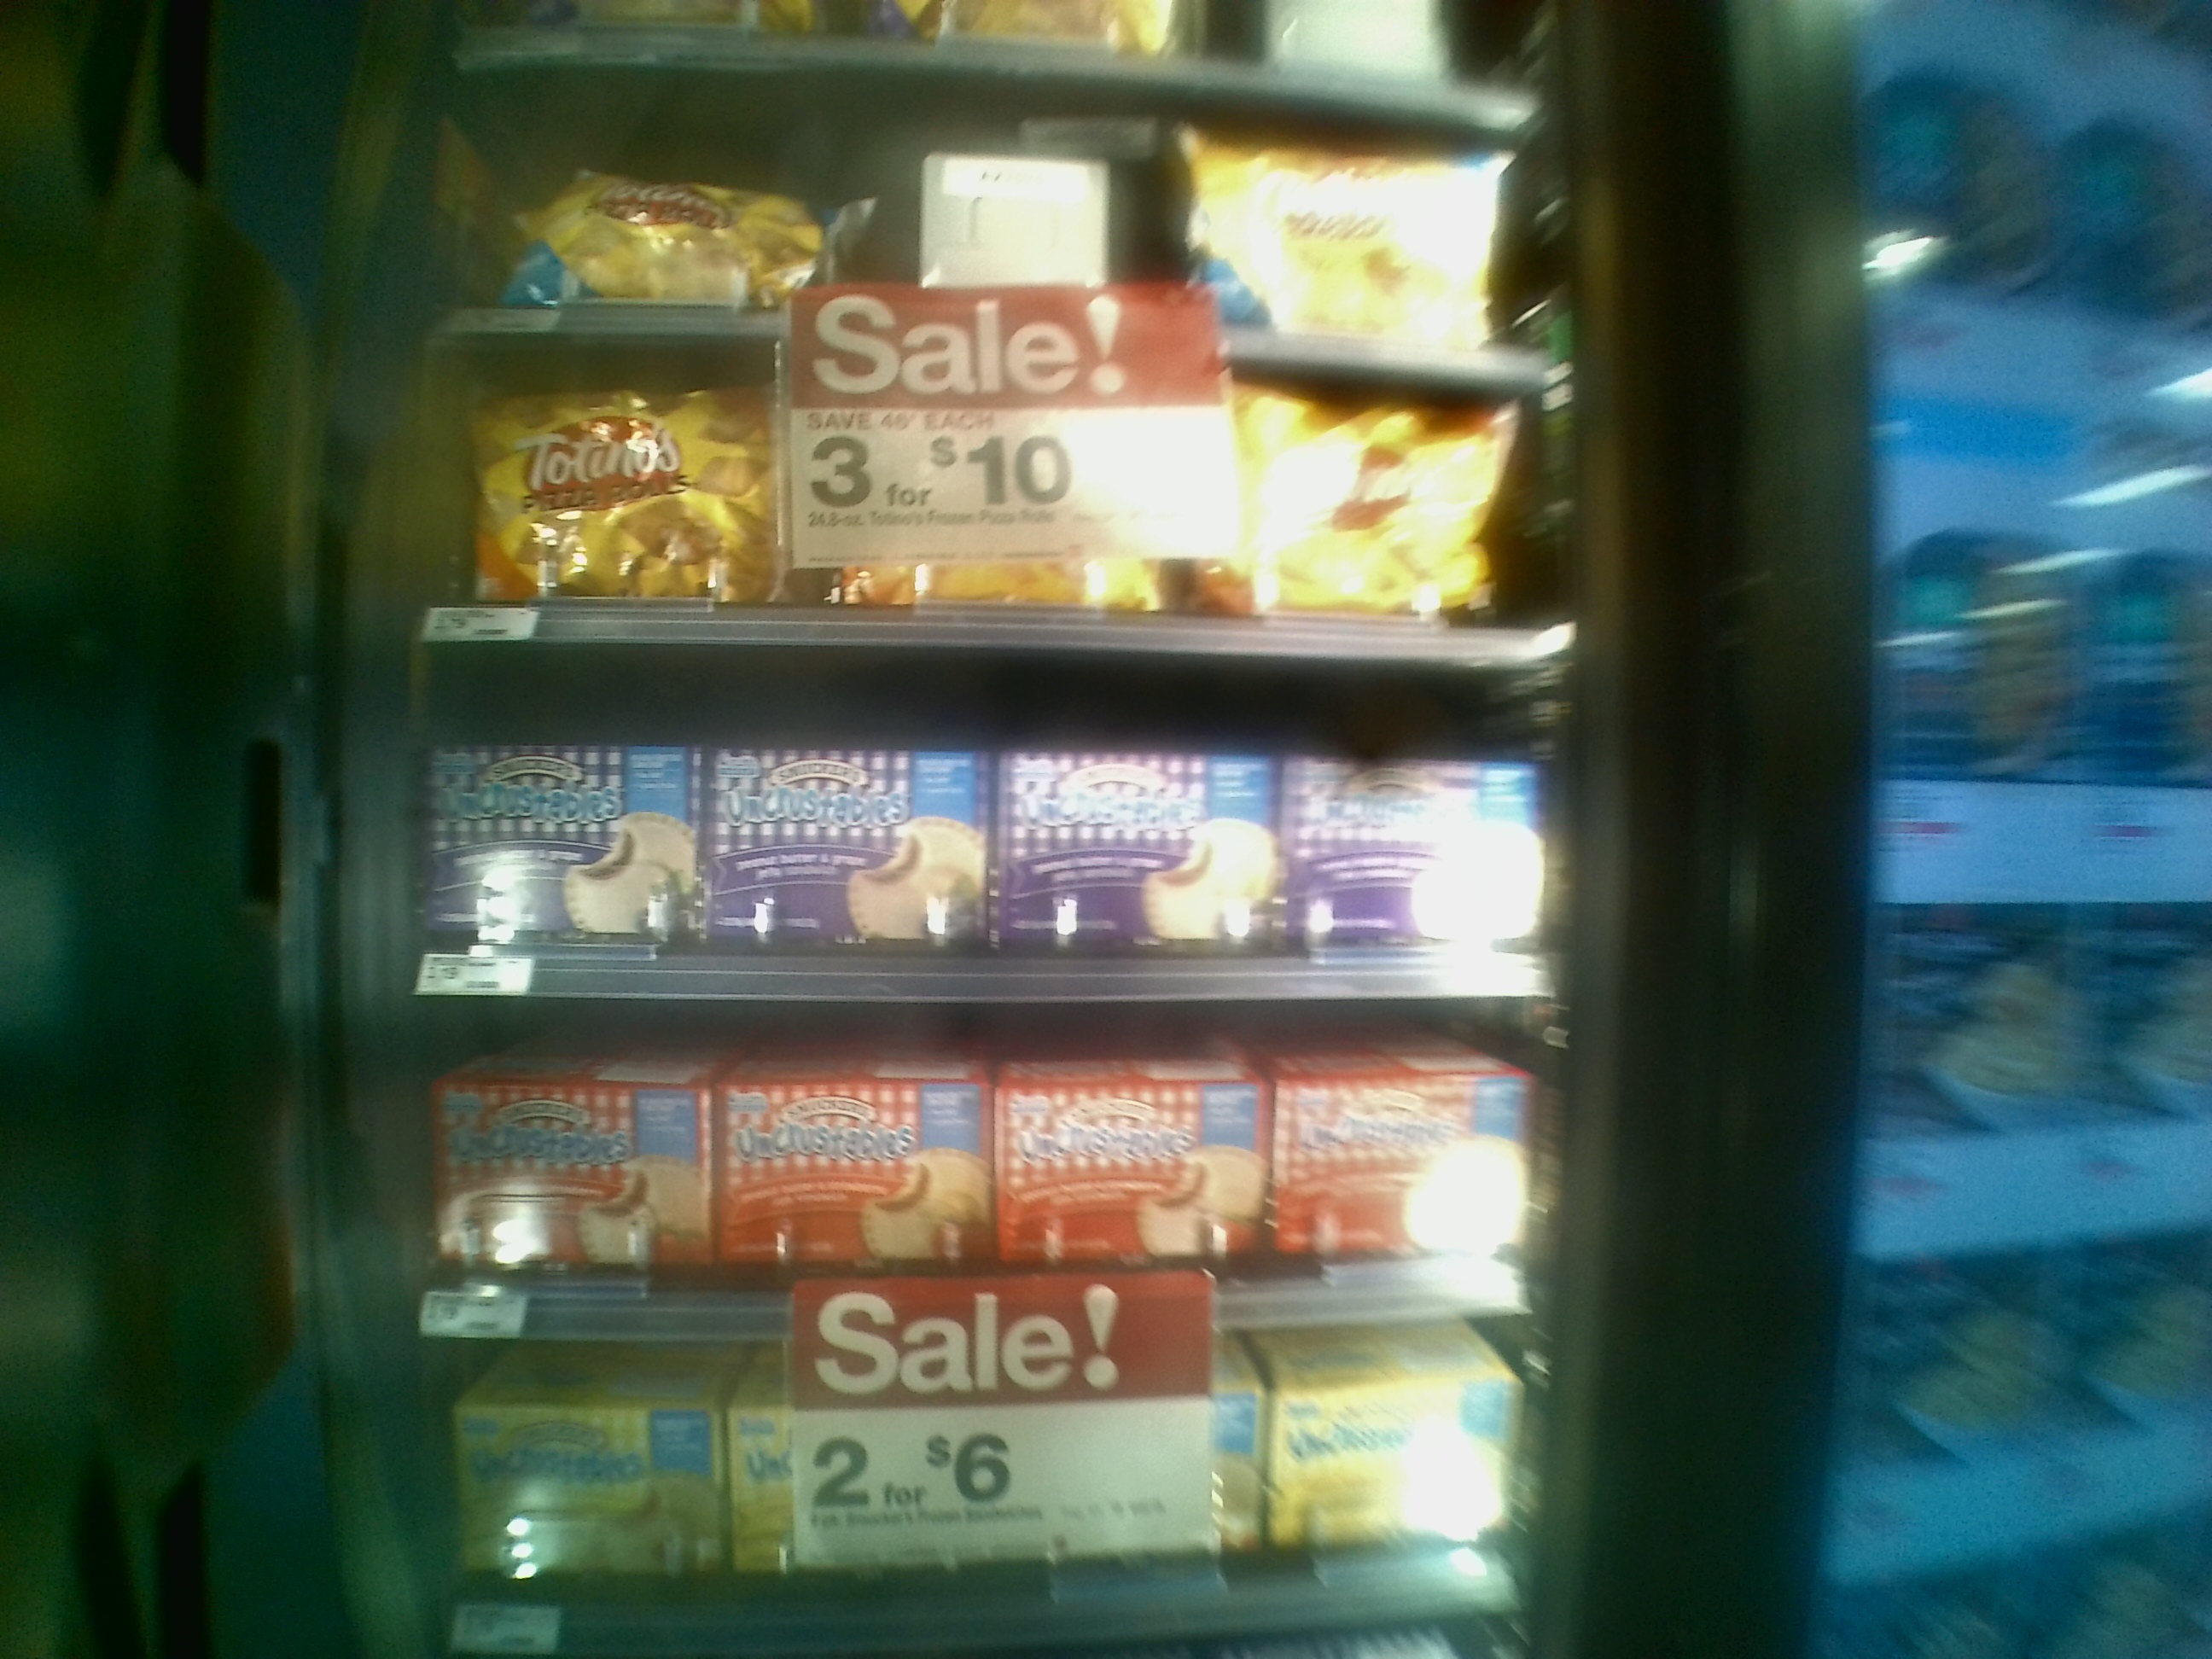shelf: (408, 652, 1550, 1014), (430, 321, 1571, 660), (399, 1016, 1531, 1352), (399, 1352, 1522, 1647)
